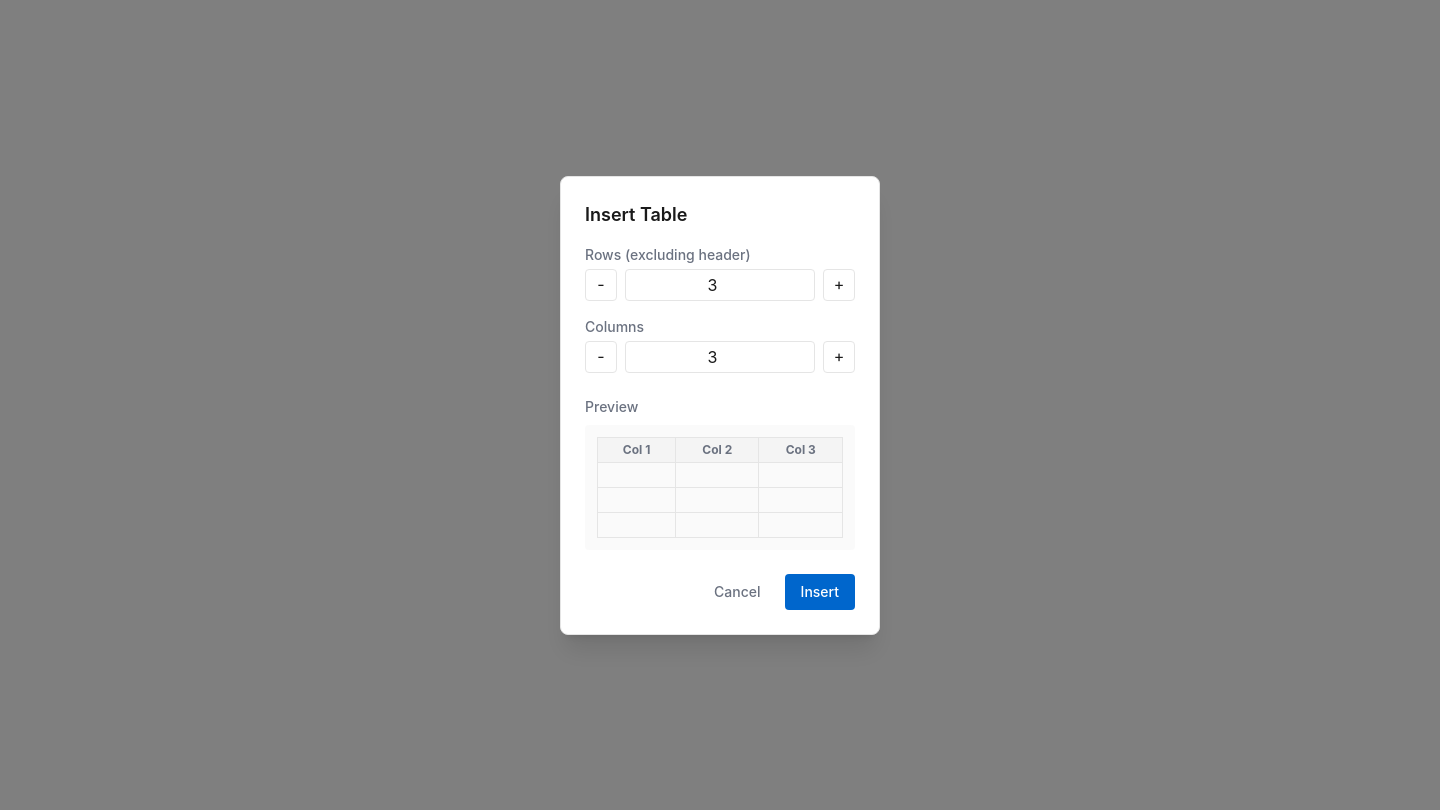
Scenario: TableDialog › should increase rows when + button is clicked
Step 1. Click the button named "increase" → (839,284), box [823,268,855,300]
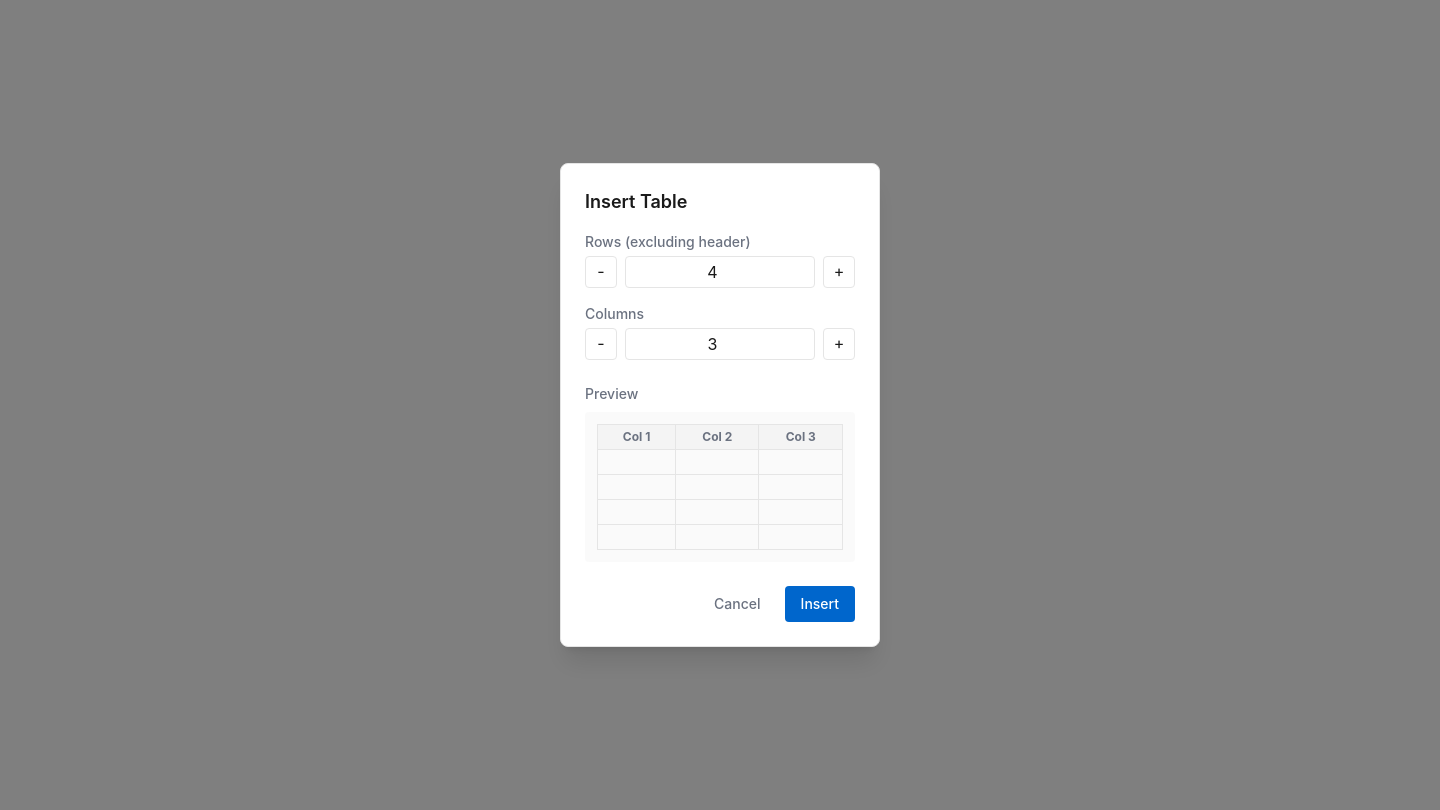
Result: the number field below "Rows (excluding header)" holds "4" at [625,256,815,288]
